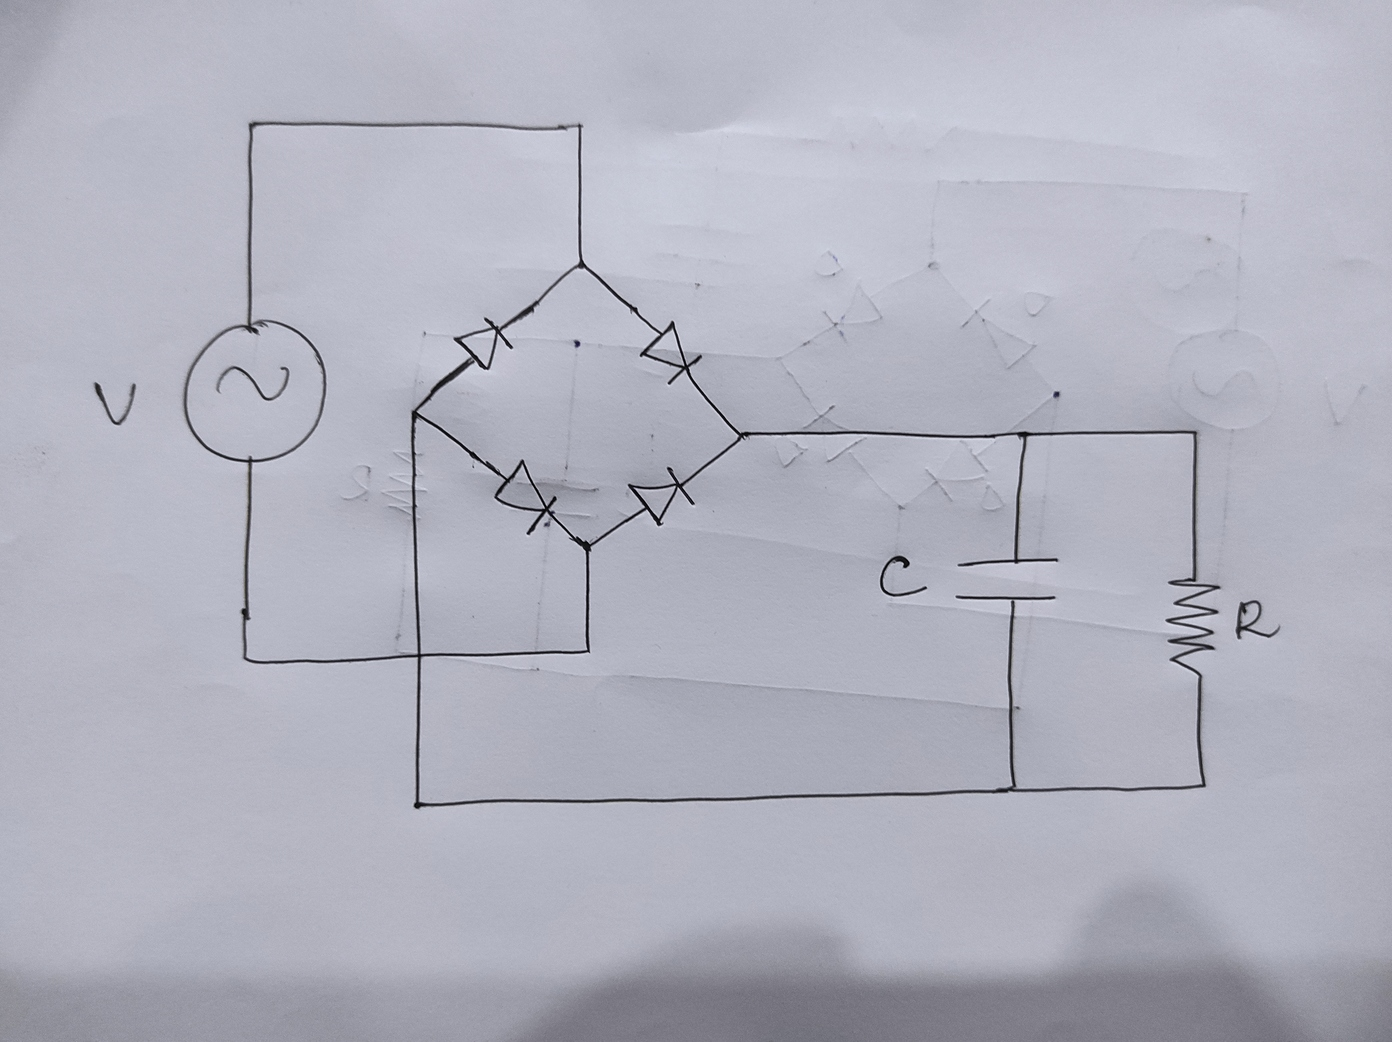capacitor.unpolarized: (943, 553, 1068, 609)
crossover: (411, 646, 429, 663)
diode: (487, 455, 565, 539), (627, 463, 700, 526), (635, 316, 700, 386), (451, 313, 517, 372)
junction: (562, 113, 598, 144), (997, 774, 1031, 802), (568, 253, 595, 278), (573, 638, 600, 662), (406, 401, 430, 425), (572, 534, 598, 557), (729, 425, 752, 447), (235, 647, 257, 668), (241, 113, 260, 136), (1192, 775, 1214, 794), (1183, 422, 1203, 442), (409, 796, 428, 814), (1014, 427, 1033, 444)
resistor: (1162, 572, 1223, 680)
text: (88, 377, 140, 430), (877, 551, 928, 600), (1233, 597, 1281, 645)
voltage.dc_ac: (176, 314, 332, 465)
